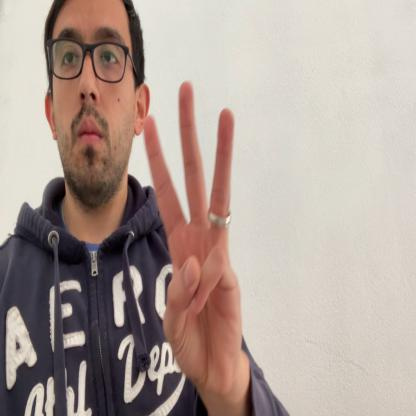W: (143, 78, 242, 403)
